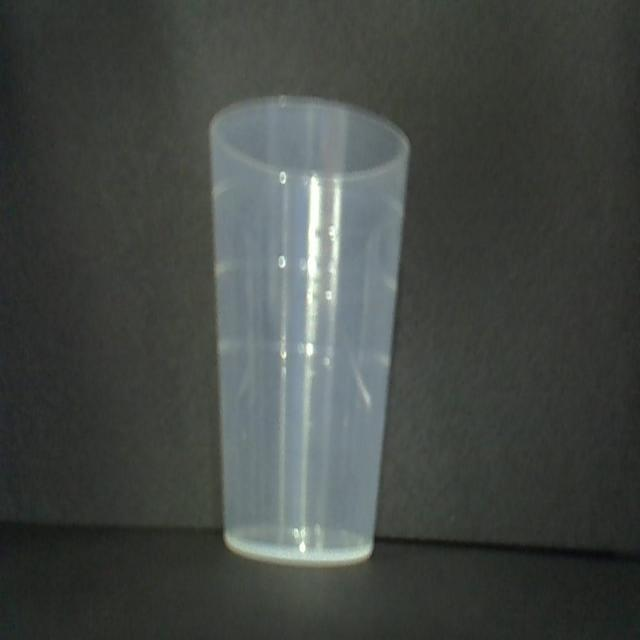cup: (203, 92, 414, 578)
